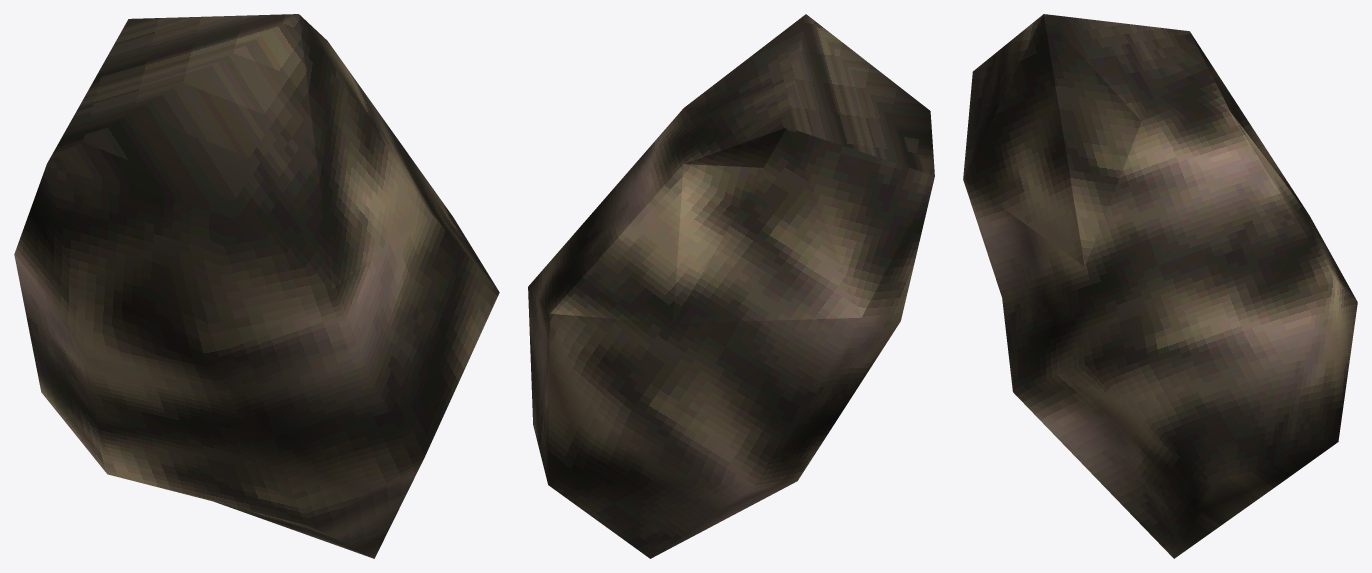
File: soft asteroid.dae
3 views of the same model, side by side, from view 1: azimuth 30°, elevation 25°; view 2: azimuth 150°, elevation 25°; view 3: azimuth 270°, elevation 25° (orthographic). The views are drawn at different scales.
Visible parts, largest first — view 1: rock (×3); view 2: rock (×3); view 3: rock (×5).
Part boxes in pixels (left/top/right/bottom): rock (×3): left=14, top=14, right=499, bottom=558; rock (×3): left=528, top=14, right=934, bottom=558; rock (×5): left=963, top=14, right=1357, bottom=558.
Size of the model in its own units: 380 by 503 by 370.
1 material, 1 textured.
